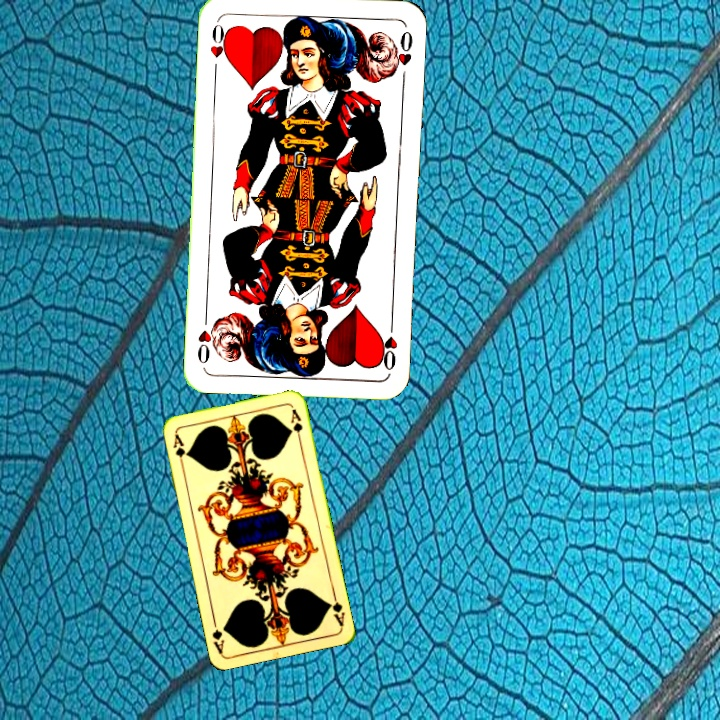GA: (324, 588, 347, 629), (169, 429, 189, 470)
HO: (206, 18, 232, 77), (376, 315, 400, 373)
